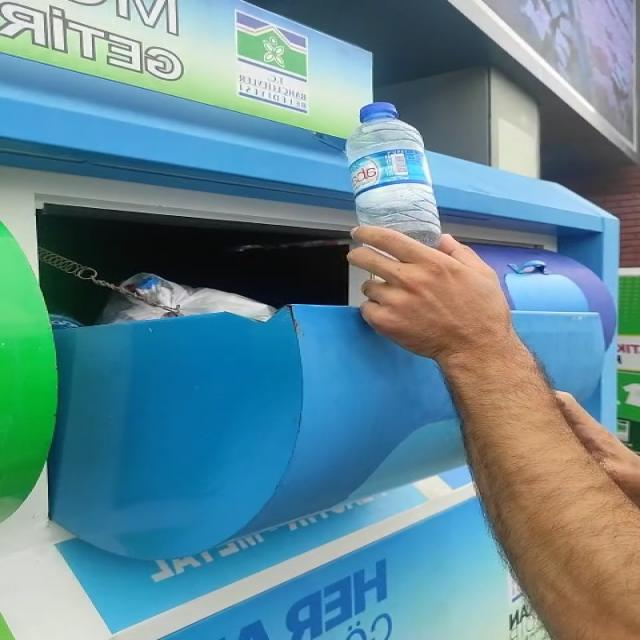plastic: (345, 103, 429, 177), (354, 182, 440, 243)
